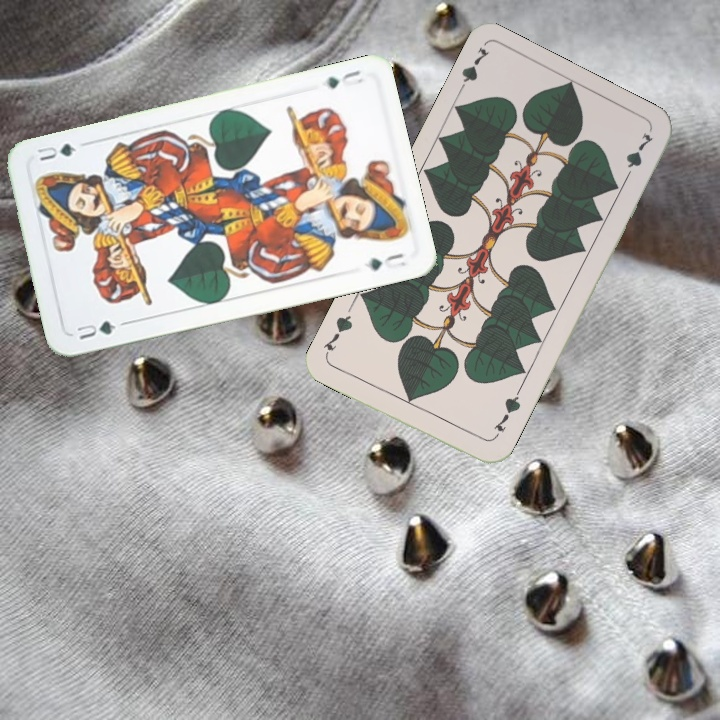G7: (452, 43, 492, 98), (488, 388, 523, 443)
GU: (73, 316, 119, 343), (322, 66, 366, 92)
